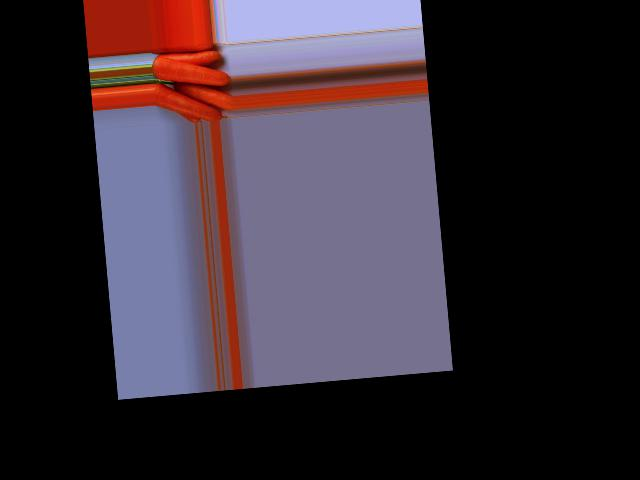carrot: (153, 44, 223, 69)
